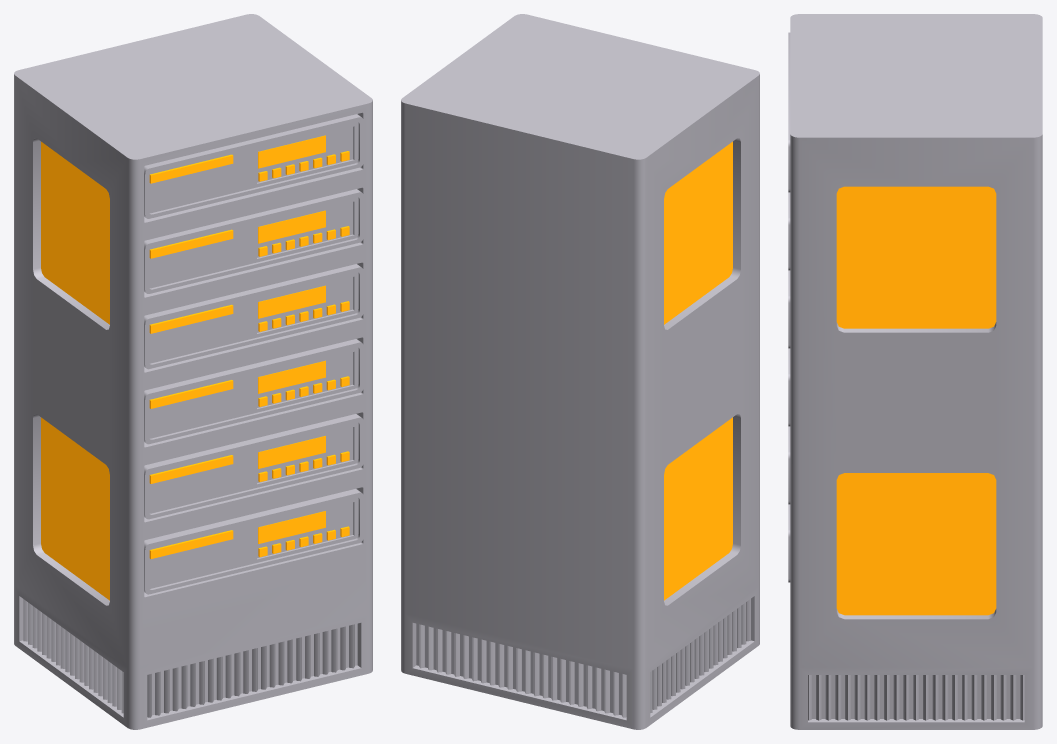
Rendered from server4.glb.
3 views of the same model, side by side, from view 1: azimuth 30°, elevation 25°; view 2: azimuth 150°, elevation 25°; view 3: azimuth 270°, elevation 25° (orthographic). The views are drawn at different scales.
Parts seen in each view (by area): view 1: server4; view 2: server4; view 3: server4.
Boxes of the visible parts, <box> form: server4: <box>14,14,372,729</box>; server4: <box>401,14,759,729</box>; server4: <box>788,14,1042,729</box>.
Bounding box in the file's own units: 17.35 × 38.73 × 15.08.
